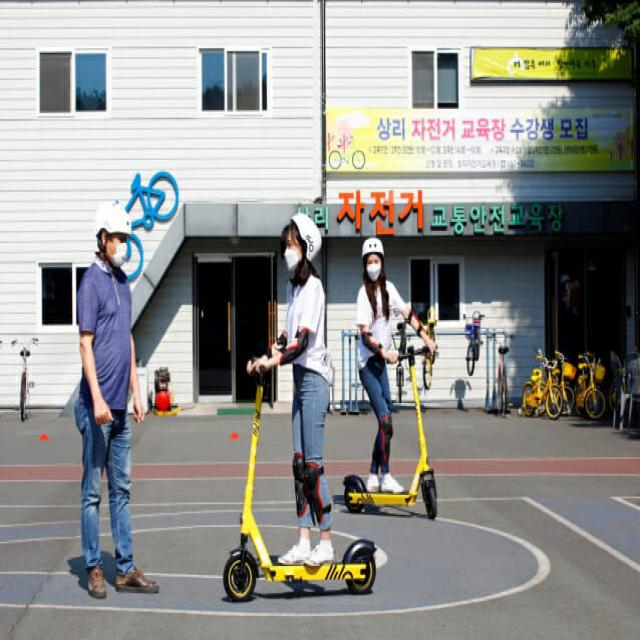helmet: (219, 211, 381, 599), (337, 230, 441, 523)
